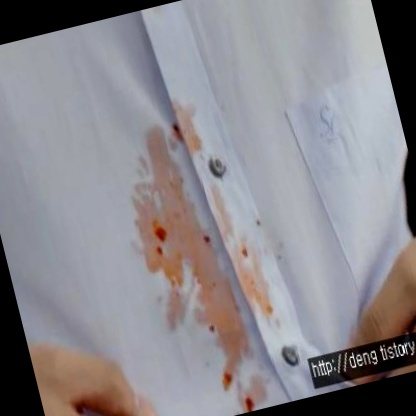kimchi: (113, 84, 319, 416), (150, 209, 181, 262), (167, 114, 196, 148), (231, 242, 257, 268), (236, 392, 260, 414), (195, 228, 214, 251), (248, 209, 262, 226), (203, 317, 217, 332), (218, 369, 230, 381)
